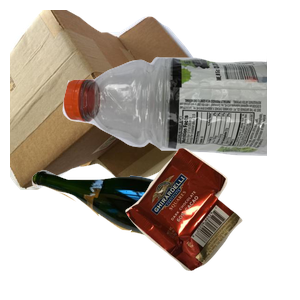cardboard: (10, 10, 206, 190)
glass: (29, 167, 241, 300)
plastic: (60, 53, 300, 201)
trash: (123, 145, 300, 300)
